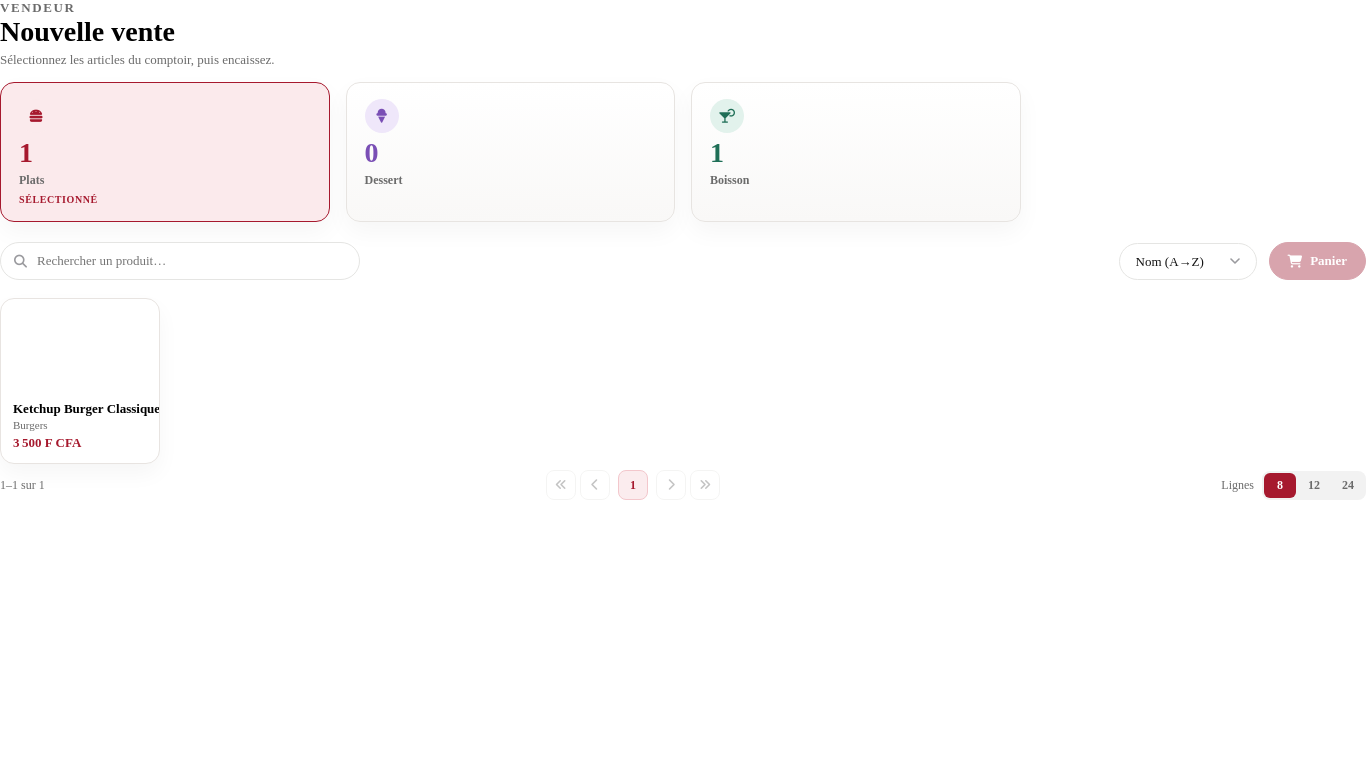
Scenario: Vente (caisse Vendeur) › permet à deux unités du même produit d’avoir des accompagnements différents (détache une ligne par unité personnalisée)
The image size is (1366, 768).
Step 1. Click the text "Ketchup Burger Classique" → click(87, 409), box [13, 401, 160, 417]
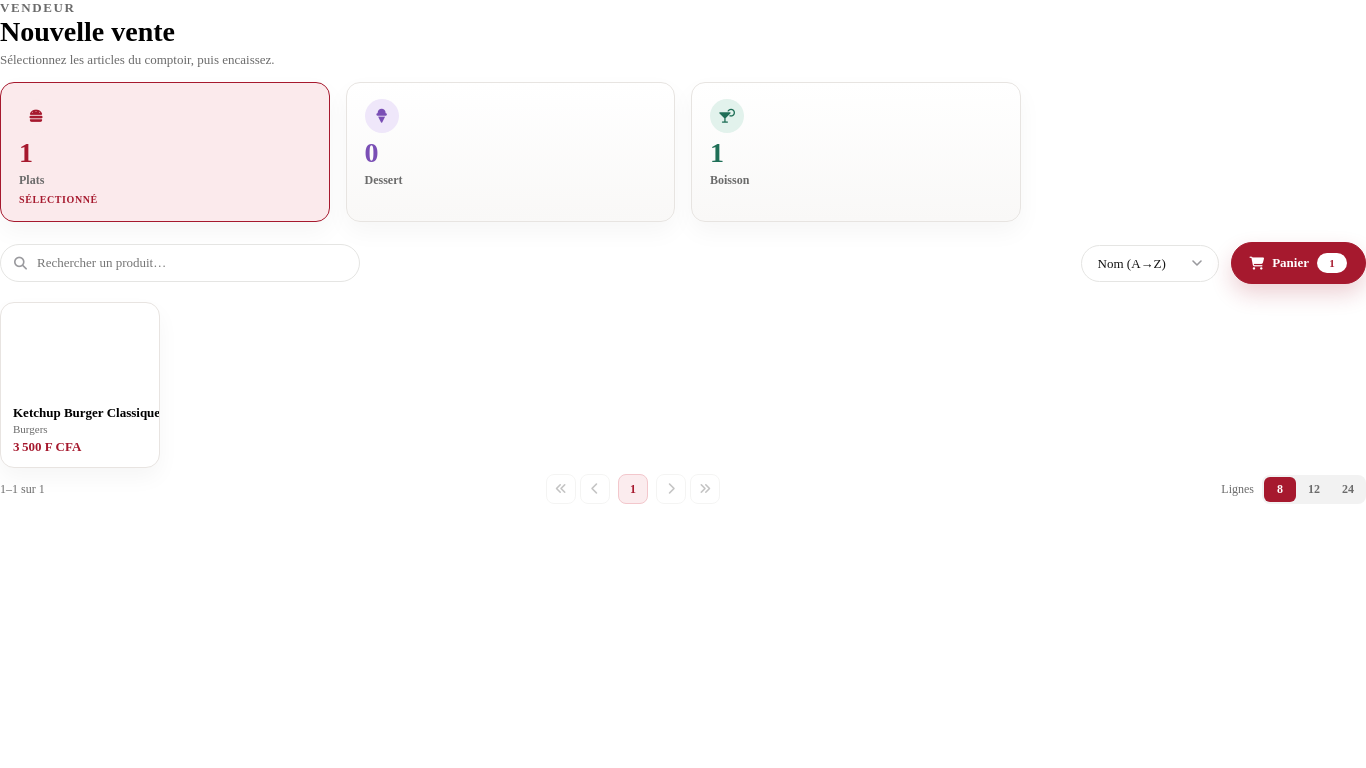
Step 2. Click the text "Ketchup Burger Classique" → click(87, 413), box [13, 405, 160, 421]
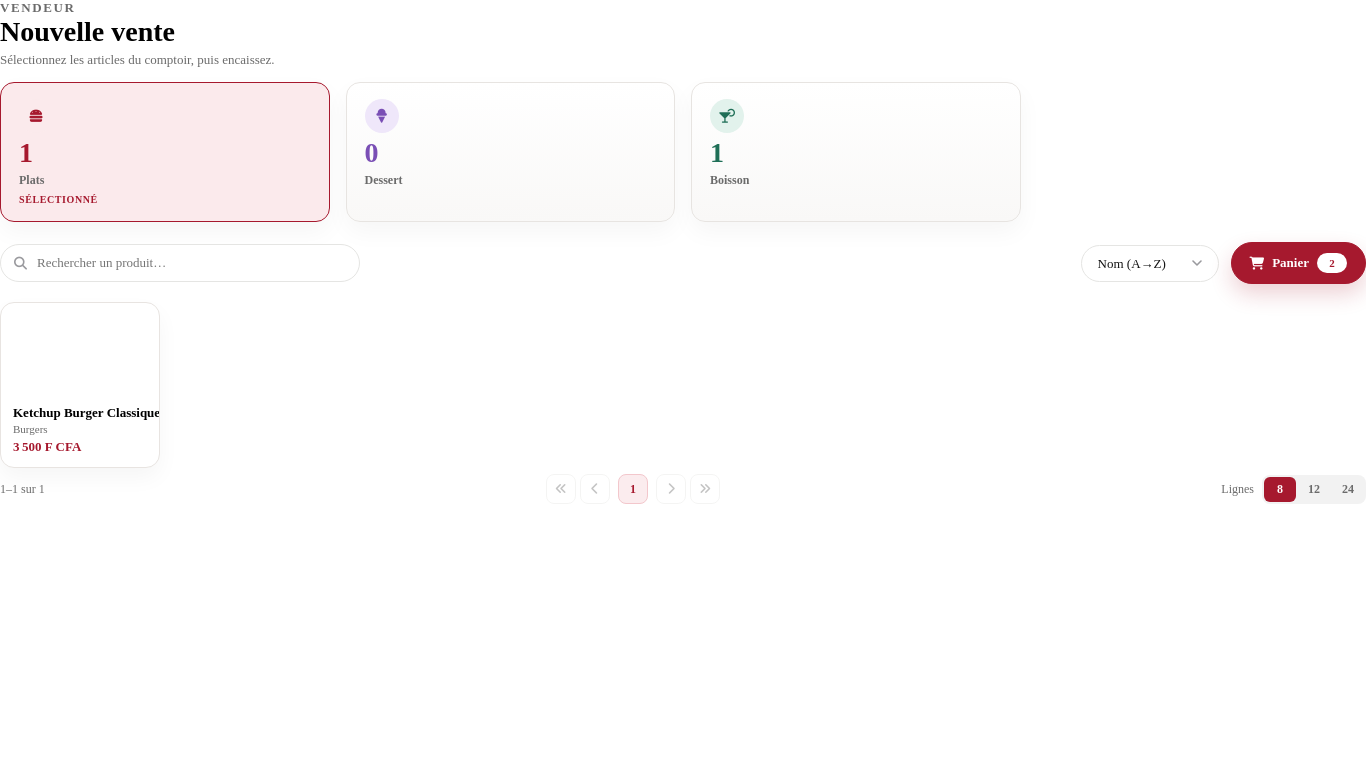
Step 3. Click the button with aria-label "Ouvrir le panier" → click(1298, 263), box [1230, 242, 1365, 284]
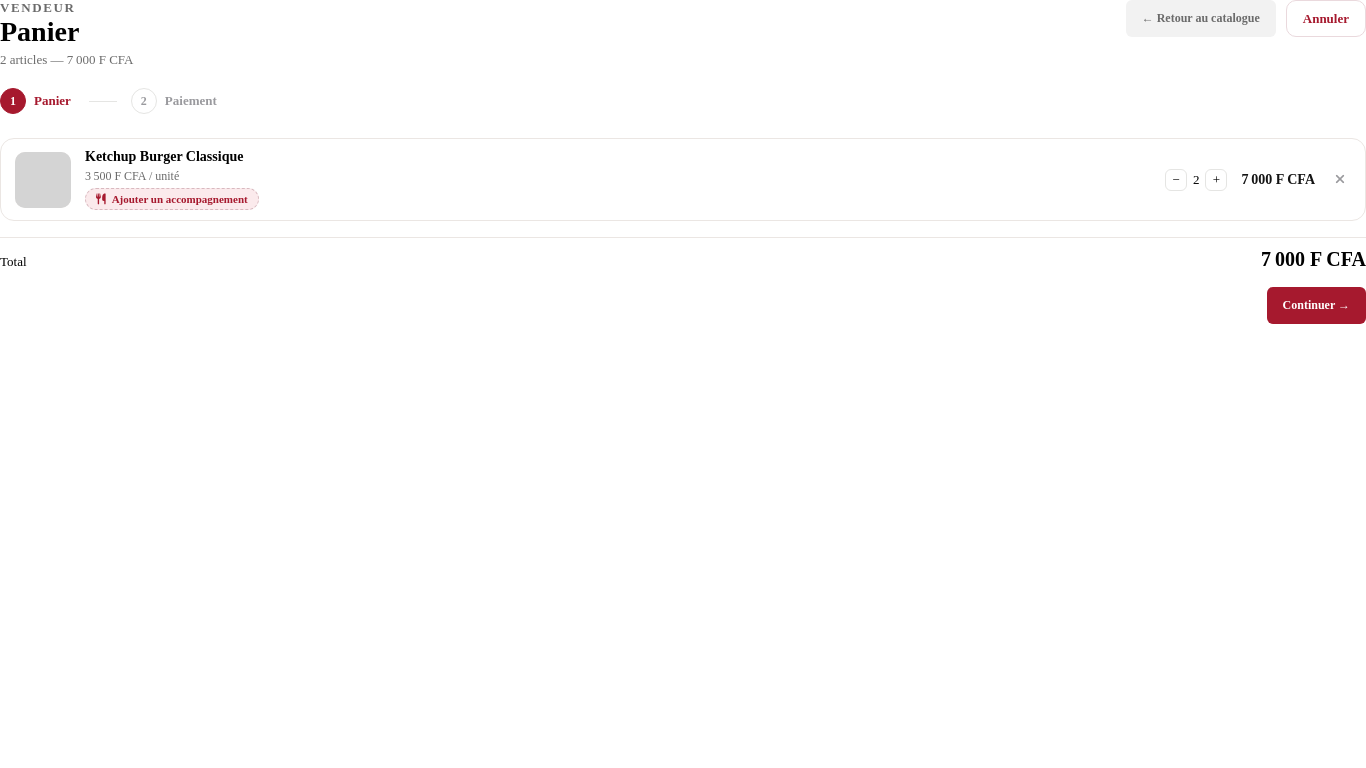
Result: the button "Ajouter un accompagnement" is shown
Result: the text "Ketchup Burger Classique" is shown once at [85, 149, 243, 164]
Step 4. Click the button "Ajouter un accompagnement" → click(172, 199), box [85, 188, 259, 210]
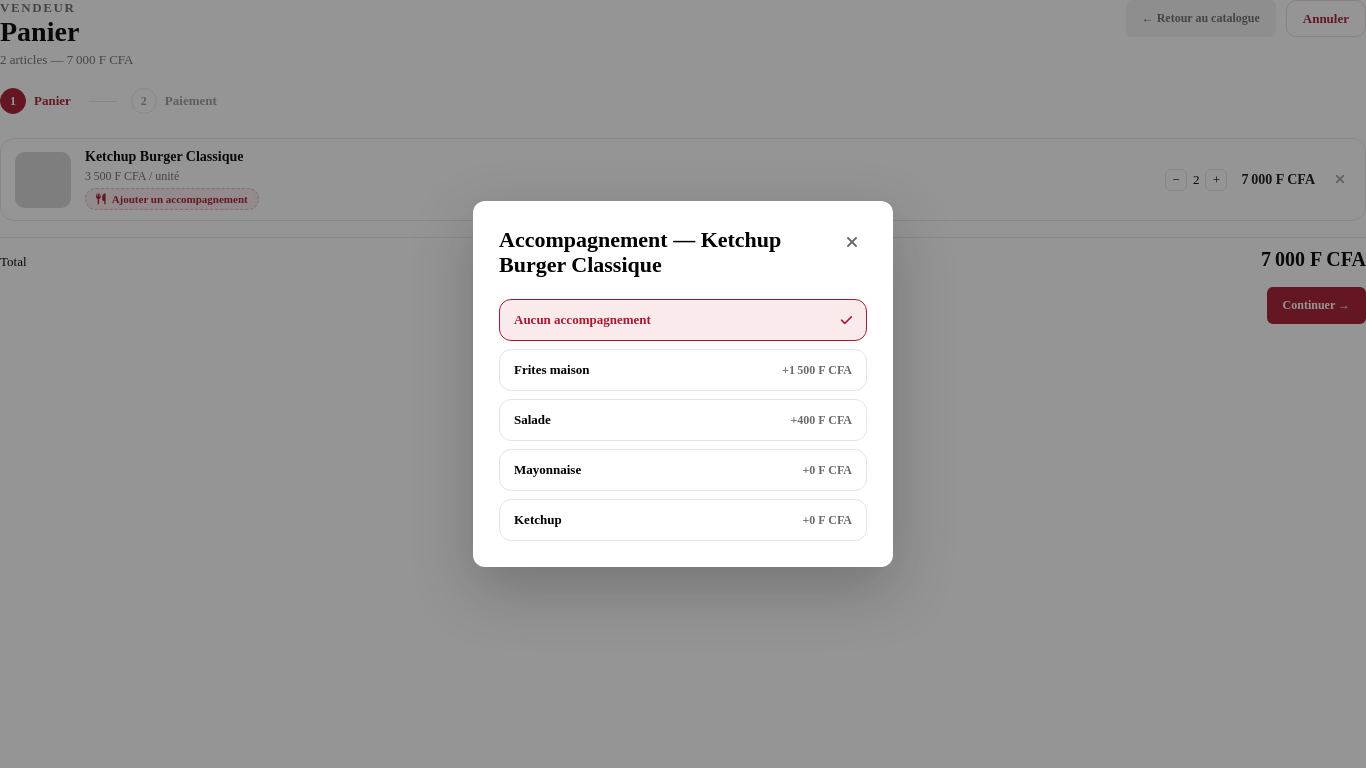
Step 5. Click the button "Frites maison +1 500 F CFA" → click(552, 370), box [499, 349, 867, 391]
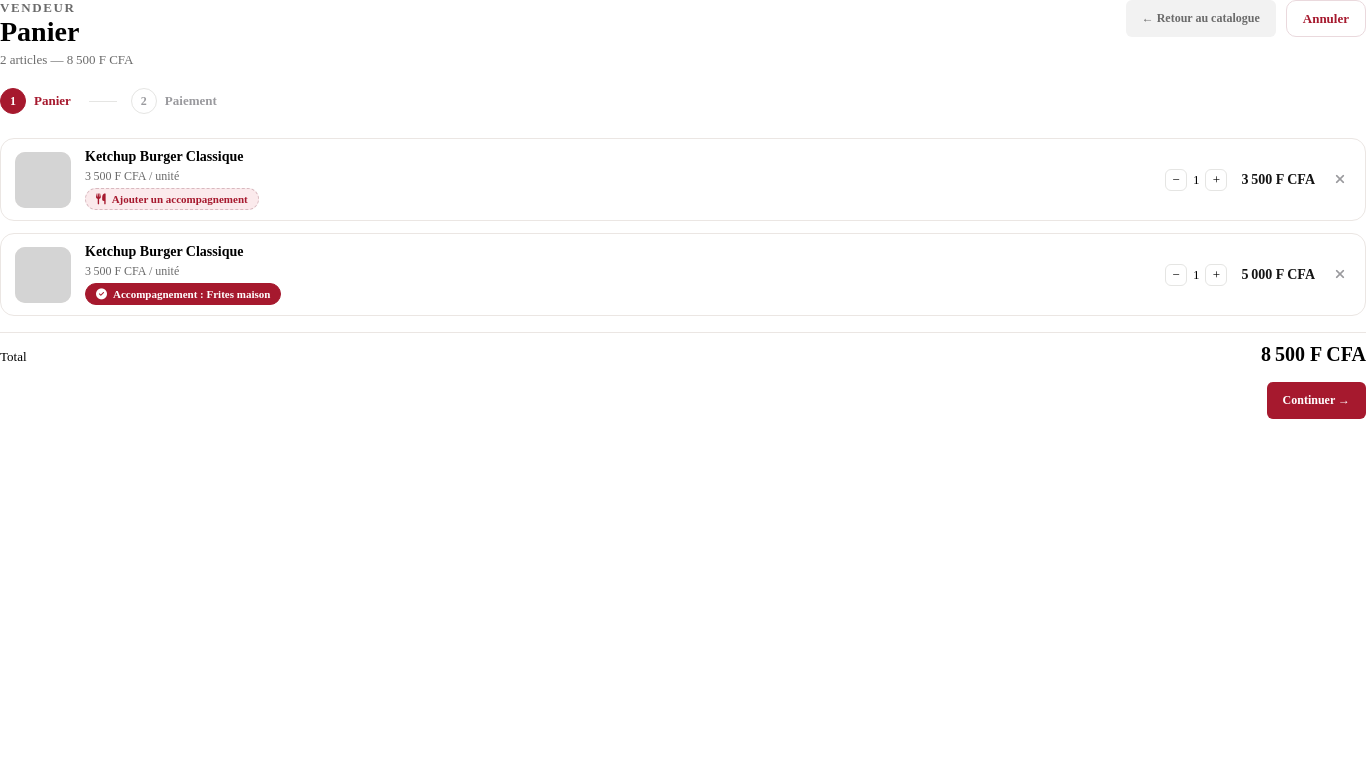
Result: the button "Ajouter un accompagnement" is shown at [85, 188, 259, 210]
Result: the button "Accompagnement : Frites maison" is shown at [85, 283, 281, 305]
Result: the text "Ketchup Burger Classique" is shown 2 times at [85, 149, 243, 164]; [85, 244, 243, 259]
